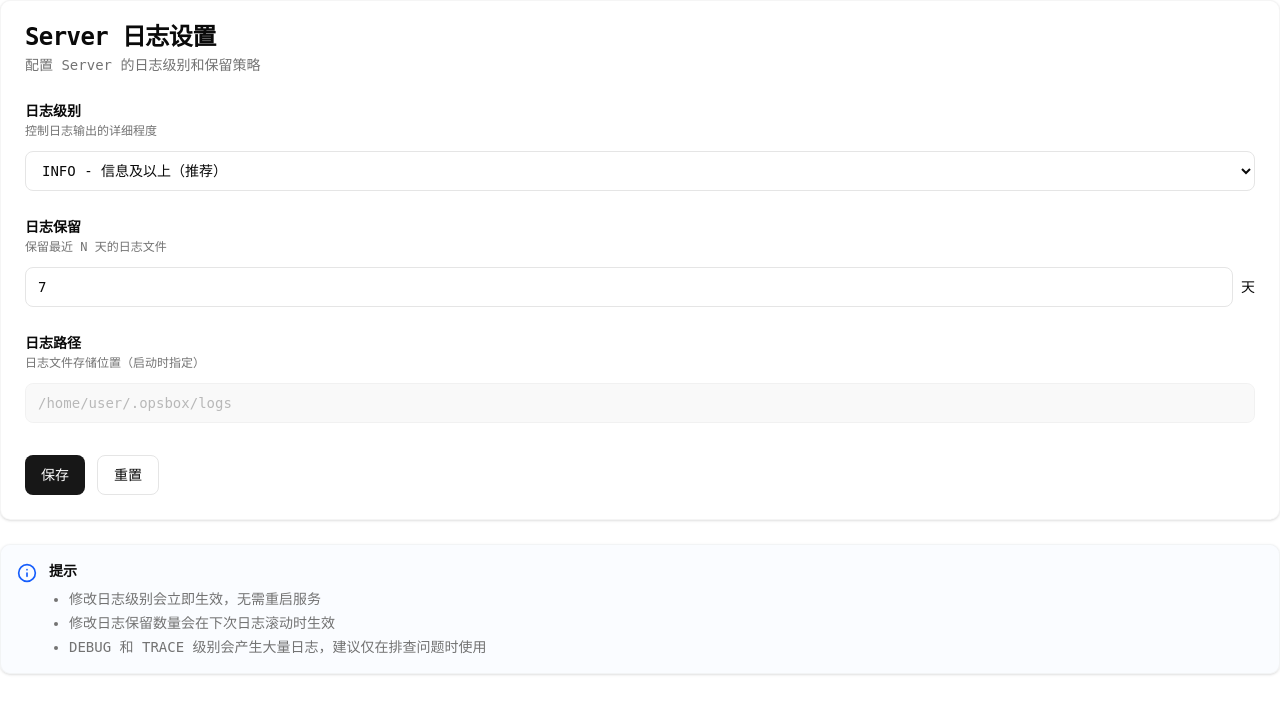
Test: 表单交互 - 保存时禁用按钮
Click the button "保存". click: (55, 475)
box: [25,455,85,495]
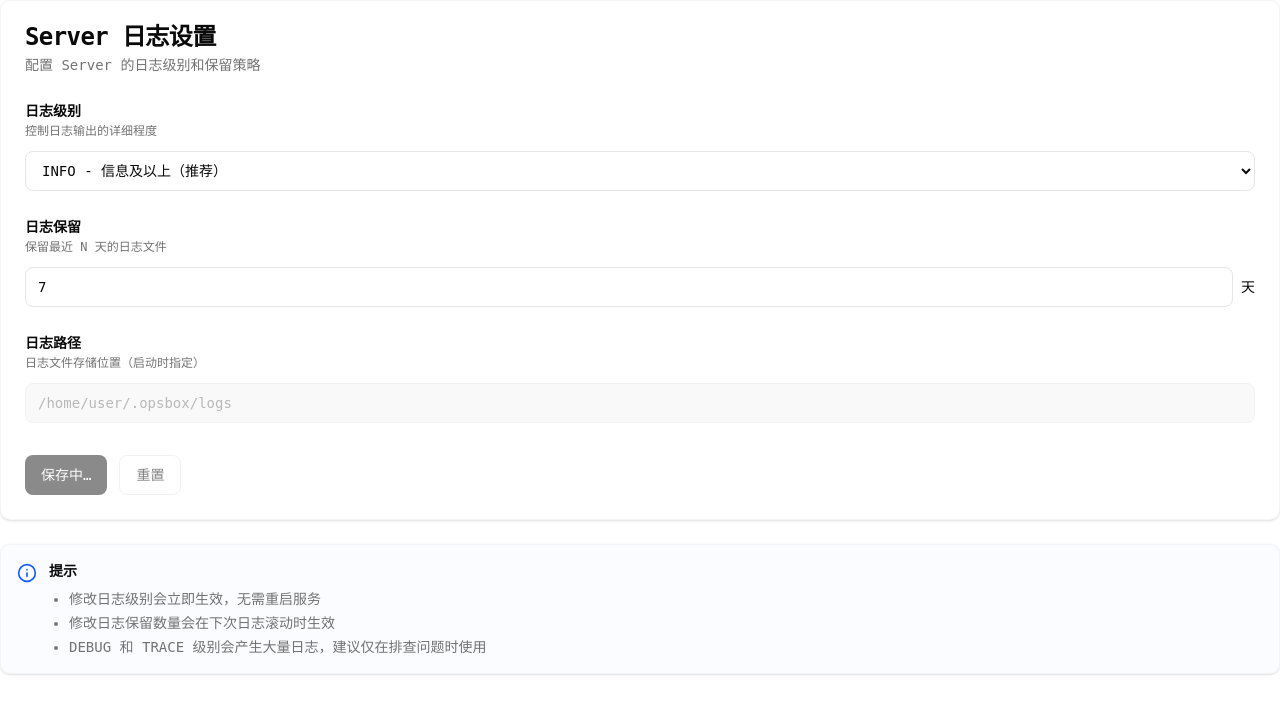
Expected: the button "保存中…" is disabled, [25,455,107,495]
